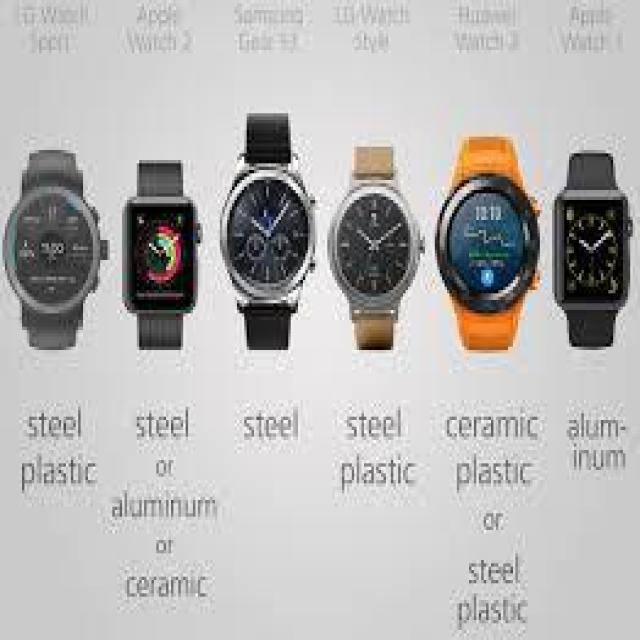watch: (447, 105, 545, 420), (336, 100, 429, 398), (12, 126, 116, 385), (233, 116, 320, 407), (127, 126, 207, 414), (564, 109, 630, 408)
